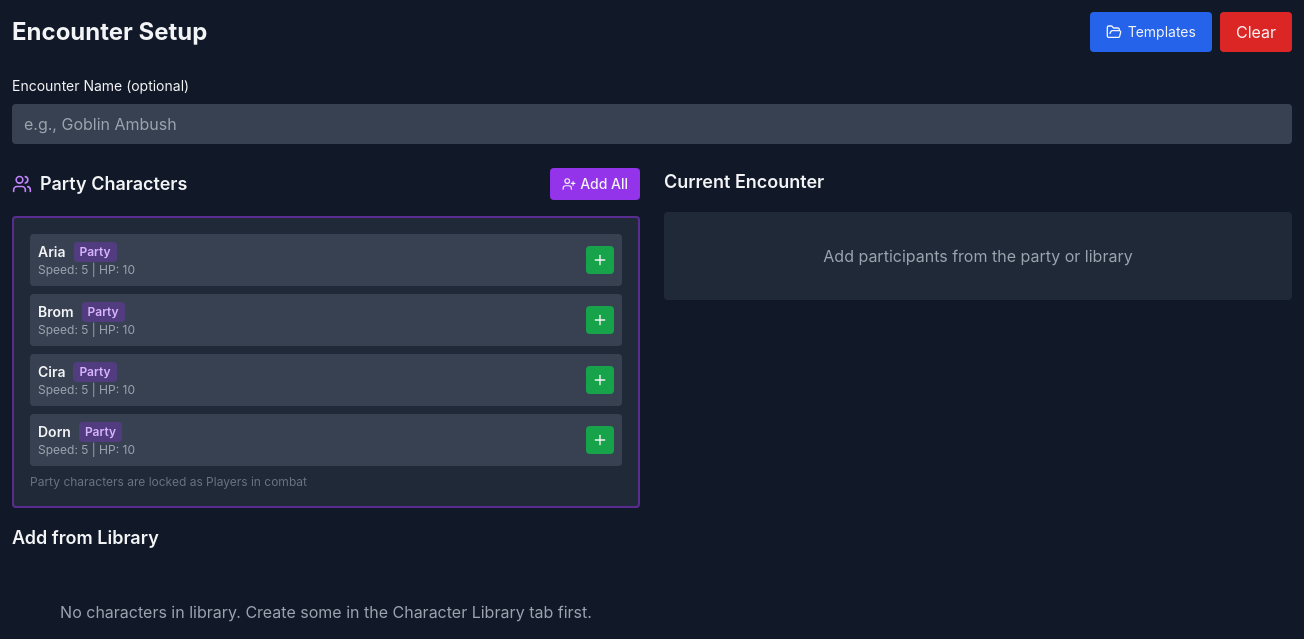
Test case: EncounterSetup › adds all party characters to the encounter when Add All is clicked
Click the button titled "Add all party characters to encounter": (595, 184) [550,168,640,200]
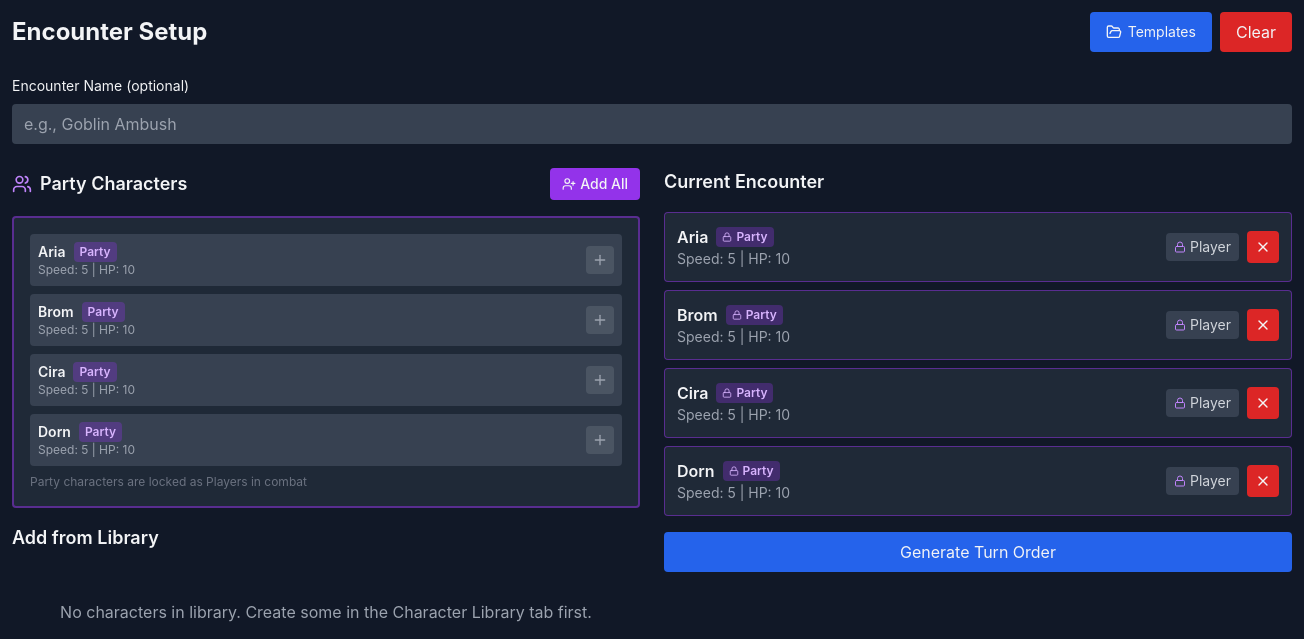
Expected: the text "Add participants from the party or library" is gone
Expected: the text "Aria" is shown 2 times, [38,242,117,262]; [677,227,774,247]
Expected: the text "Brom" is shown 2 times, [38,302,125,322]; [677,305,783,325]
